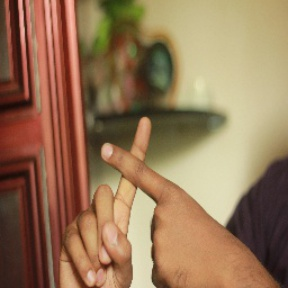X: (67, 109, 202, 240)
